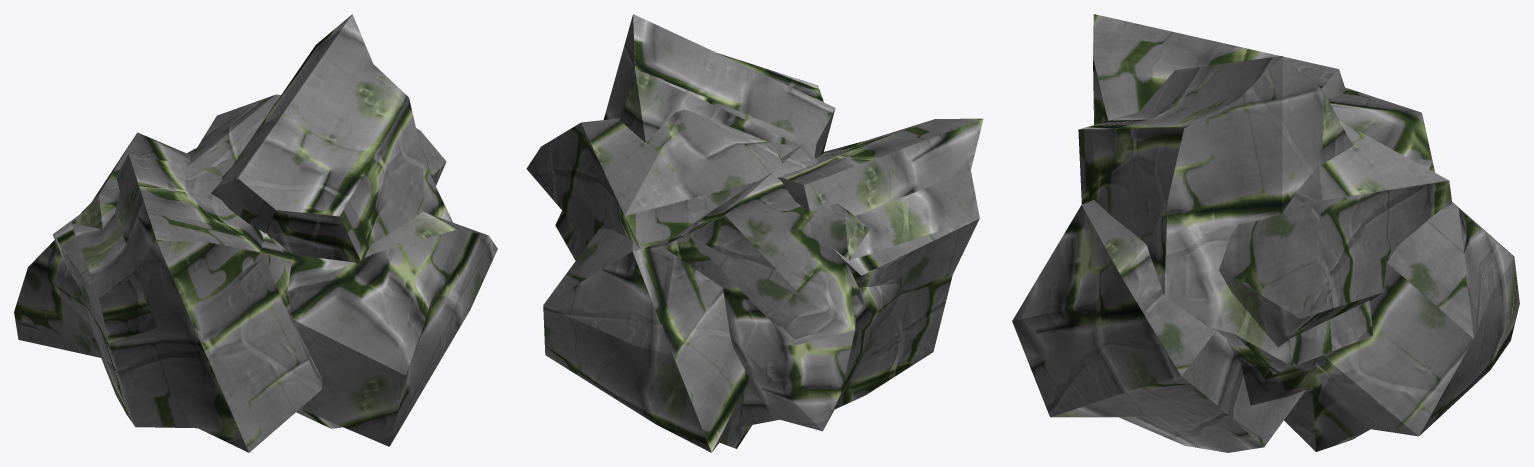
File: Rock.obj
3 views of the same model, side by side, from view 1: azimuth 30°, elevation 25°; view 2: azimuth 150°, elevation 25°; view 3: azimuth 270°, elevation 25° (orthographic). The views are drawn at different scales.
Parts seen in each view (by area): view 1: Rock2; view 2: Rock2; view 3: Rock2.
Part boxes in pixels (left/top/right/bottom): Rock2: left=14, top=14, right=497, bottom=452; Rock2: left=526, top=14, right=983, bottom=452; Rock2: left=1012, top=14, right=1519, bottom=452.
Size of the model in its own units: 4.47 by 4.06 by 4.19.
Materials: 1 (1 with a texture image).
